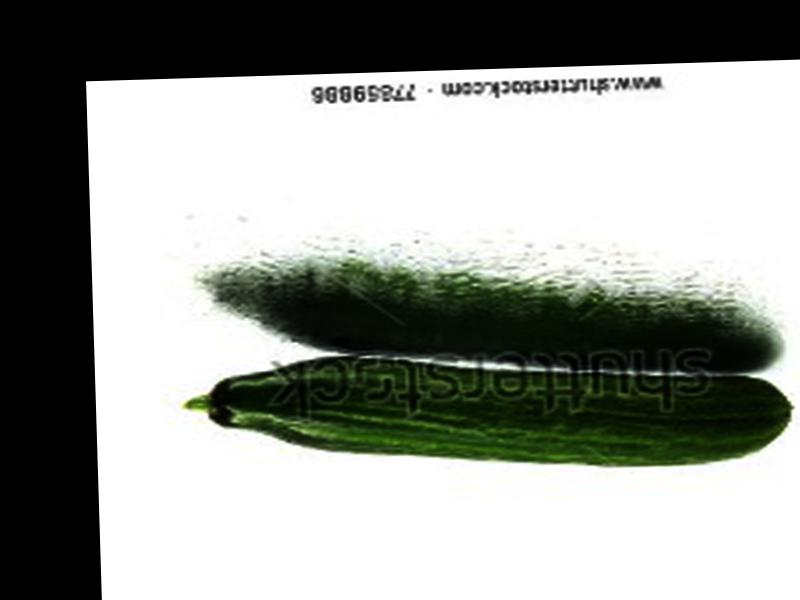Cucumber: (185, 342, 788, 482)
